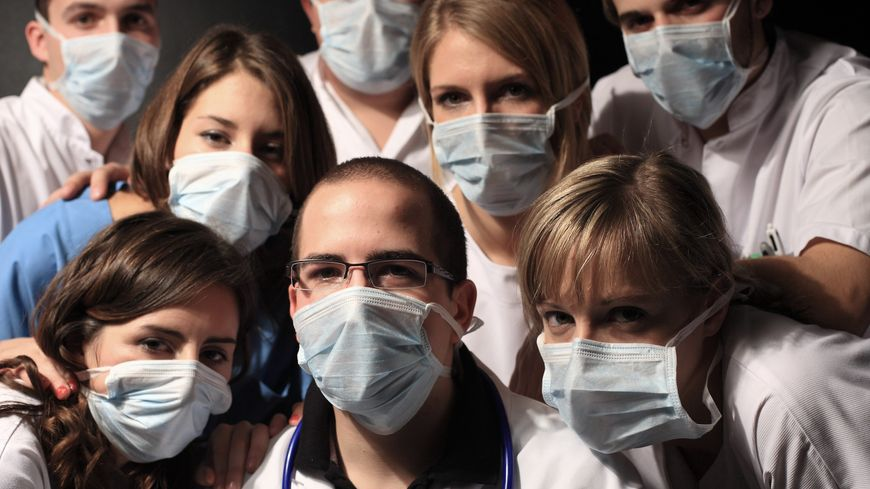with_mask: (528, 278, 713, 454), (287, 247, 458, 424), (91, 311, 240, 454), (426, 65, 563, 212), (181, 105, 298, 244), (617, 6, 757, 114), (55, 1, 157, 137)
